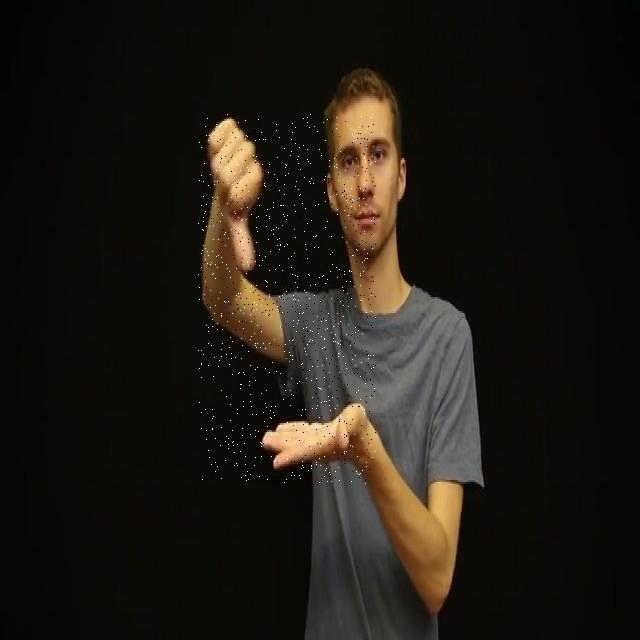sauce: (198, 114, 376, 484)
